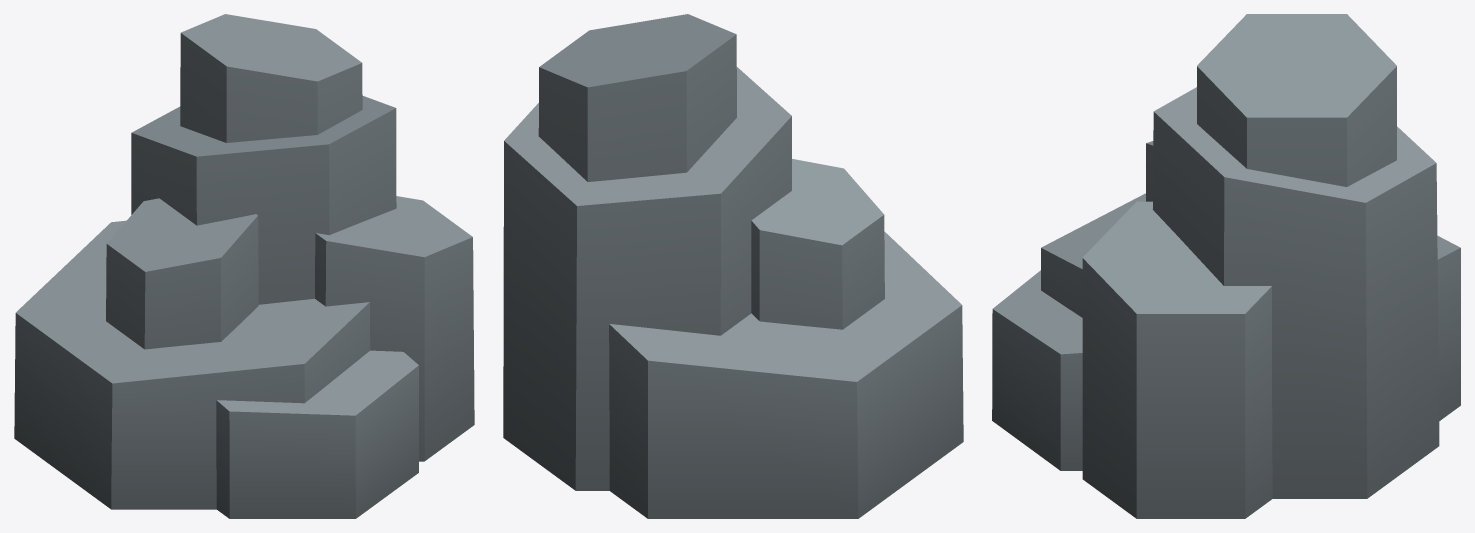
File: mountain_B.gltf
3 renders of one model, left to right at view 1: azimuth 30°, elevation 25°; view 2: azimuth 150°, elevation 25°; view 3: azimuth 270°, elevation 25°, orthographic. The views are drawn at different scales.
Parts seen in each view (by area): view 1: mountain_B; view 2: mountain_B; view 3: mountain_B.
Part boxes in pixels (left/top/right/bottom): mountain_B: left=14, top=14, right=474, bottom=518; mountain_B: left=503, top=14, right=963, bottom=518; mountain_B: left=992, top=14, right=1460, bottom=518.
Size of the model in its own units: 1.8 by 1.77 by 1.88.
1 material, 1 textured.
